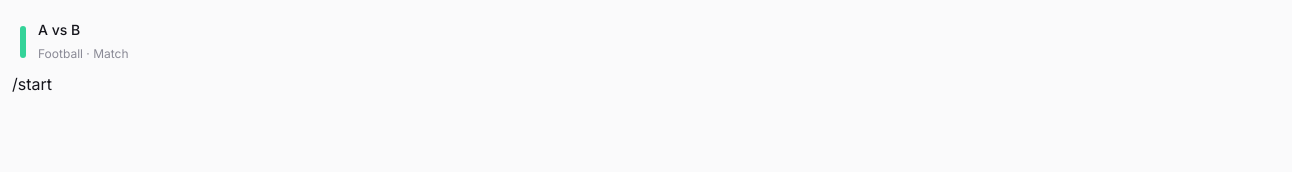
Scenario: EventRow › sends a football fixture to the football section, not a team page
Click the button: coordinates (59, 30) [12,12,1281,72]
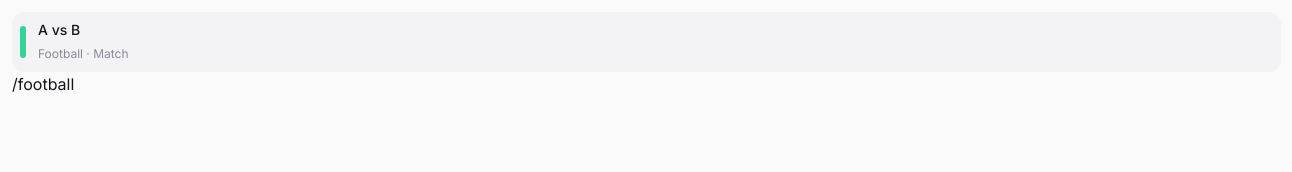
Now the text with test id "pathname" reads "/football", box [12,74,74,94]
